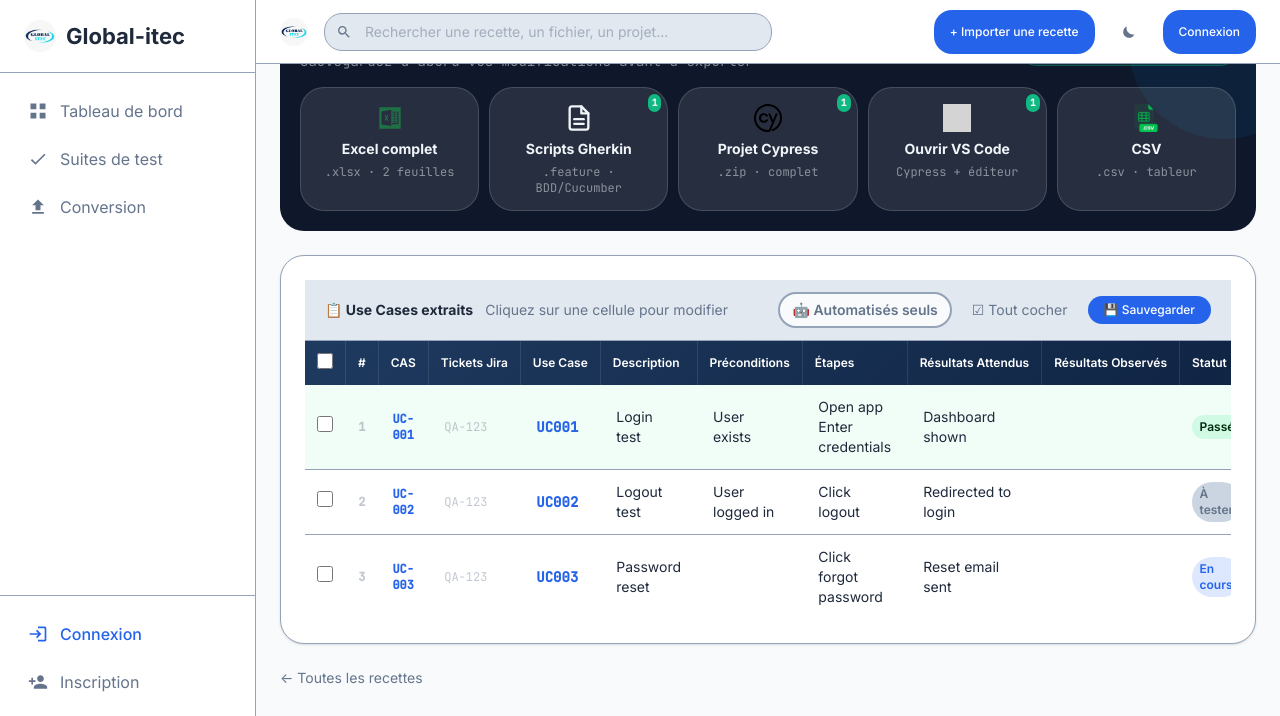
Test: PreviewPage › shows bulk toolbar when a row is selected
(page scrolled)
Check: the text box "UC001" is shown, box [536, 418, 578, 436]
What coordinates should you click on to do the following:
click the checkbox in the row of "UC001"
I would click on:
 (325, 424)
Its box is [317, 416, 333, 432].
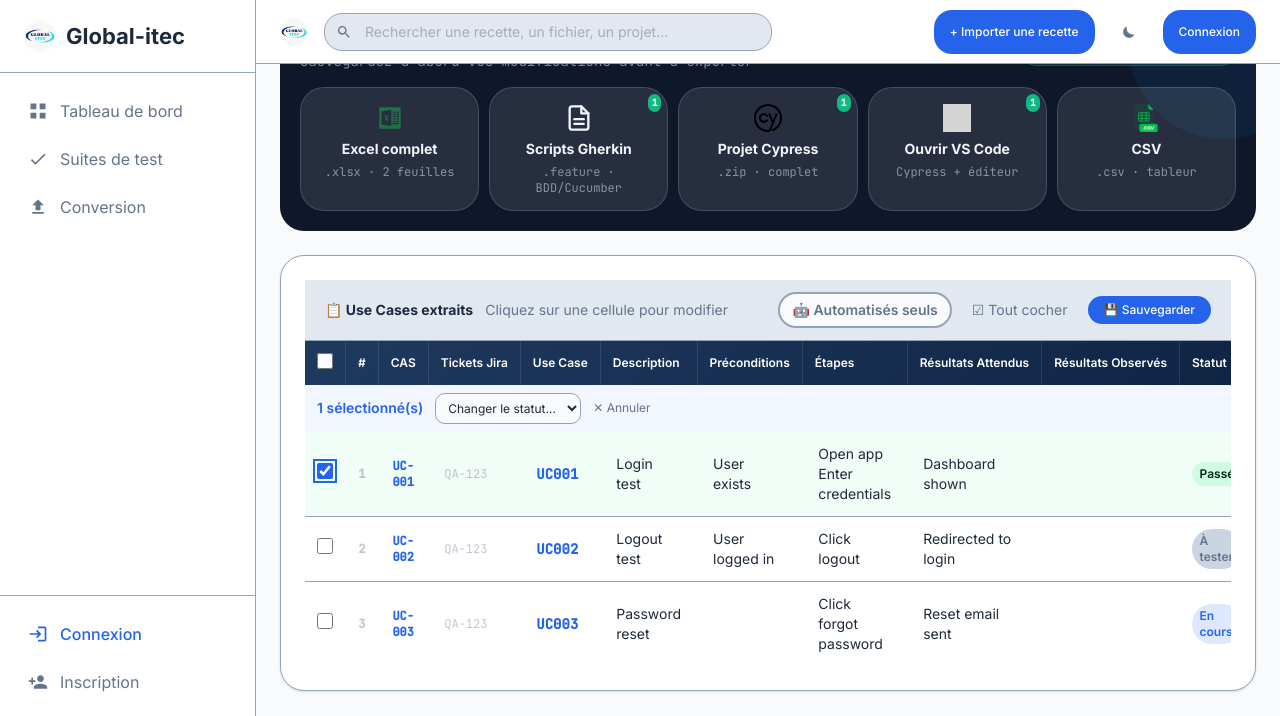
Check: the text "1 sélectionné(s)" is shown, box [317, 398, 423, 418]
